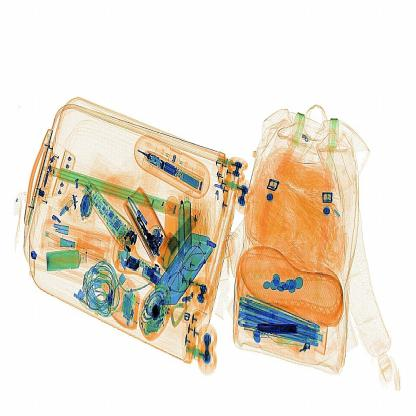scissors: (256, 318, 302, 336)
